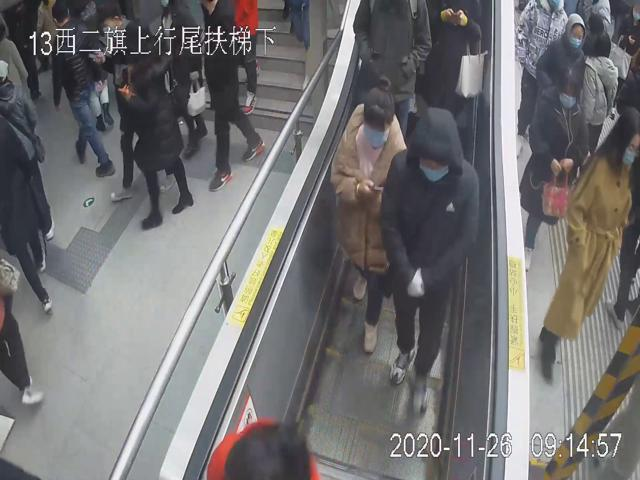person: (379, 104, 482, 419), (537, 104, 640, 386), (327, 72, 406, 356), (519, 64, 592, 273)
